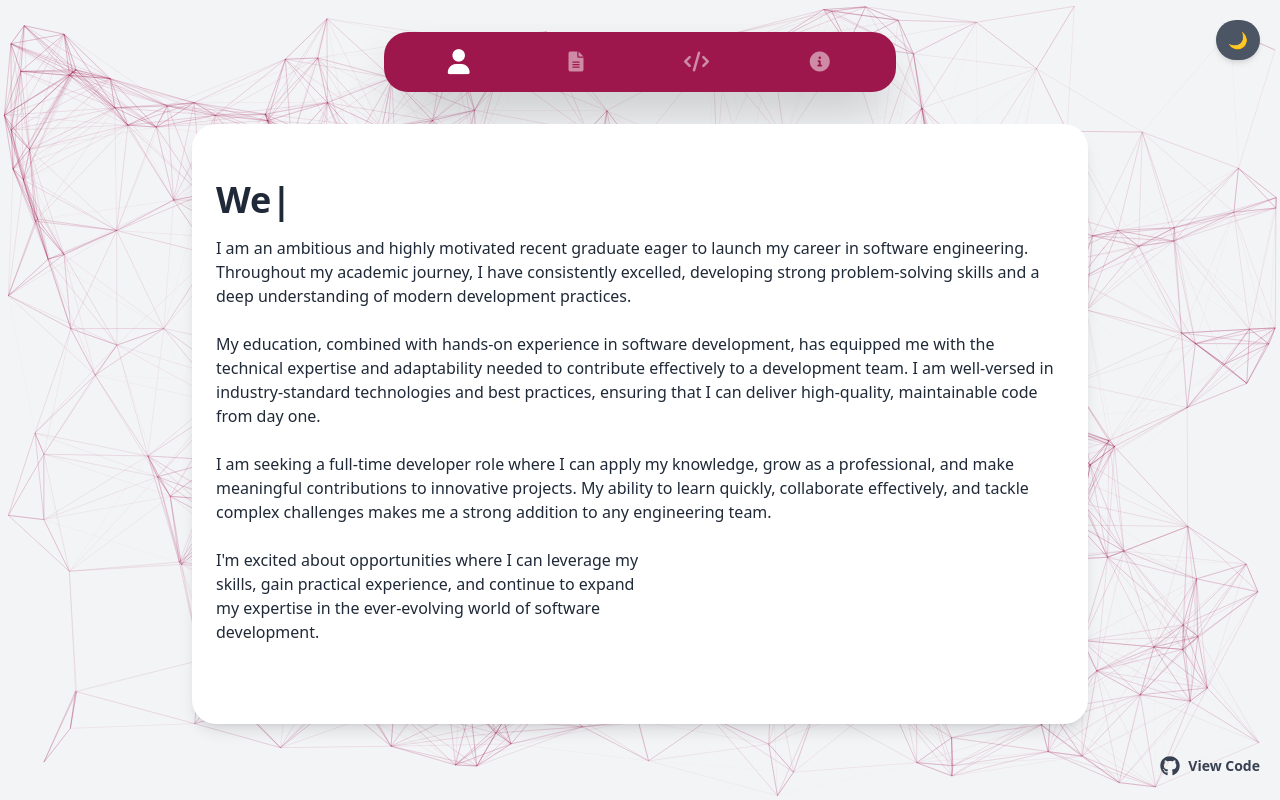
Scenario: Button Tests › should toggle dark mode when clicking the dark mode button
Click the button named "Toggle dark mode". click: (1238, 40)
box: x1=1216 y1=20 x2=1260 y2=60
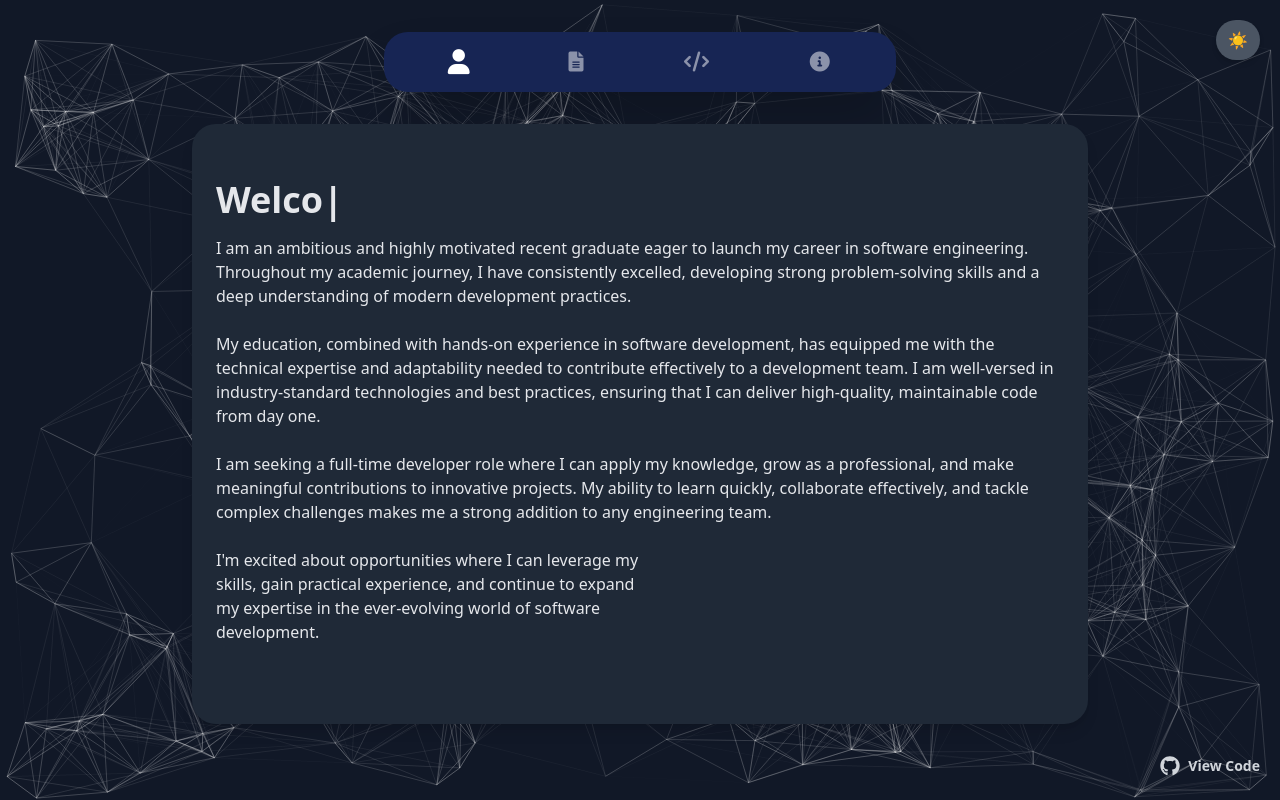
Result: the button named "Toggle dark mode" reads "☀️"
Click the button named "Toggle dark mode". click: (1238, 40)
box: x1=1216 y1=20 x2=1260 y2=60
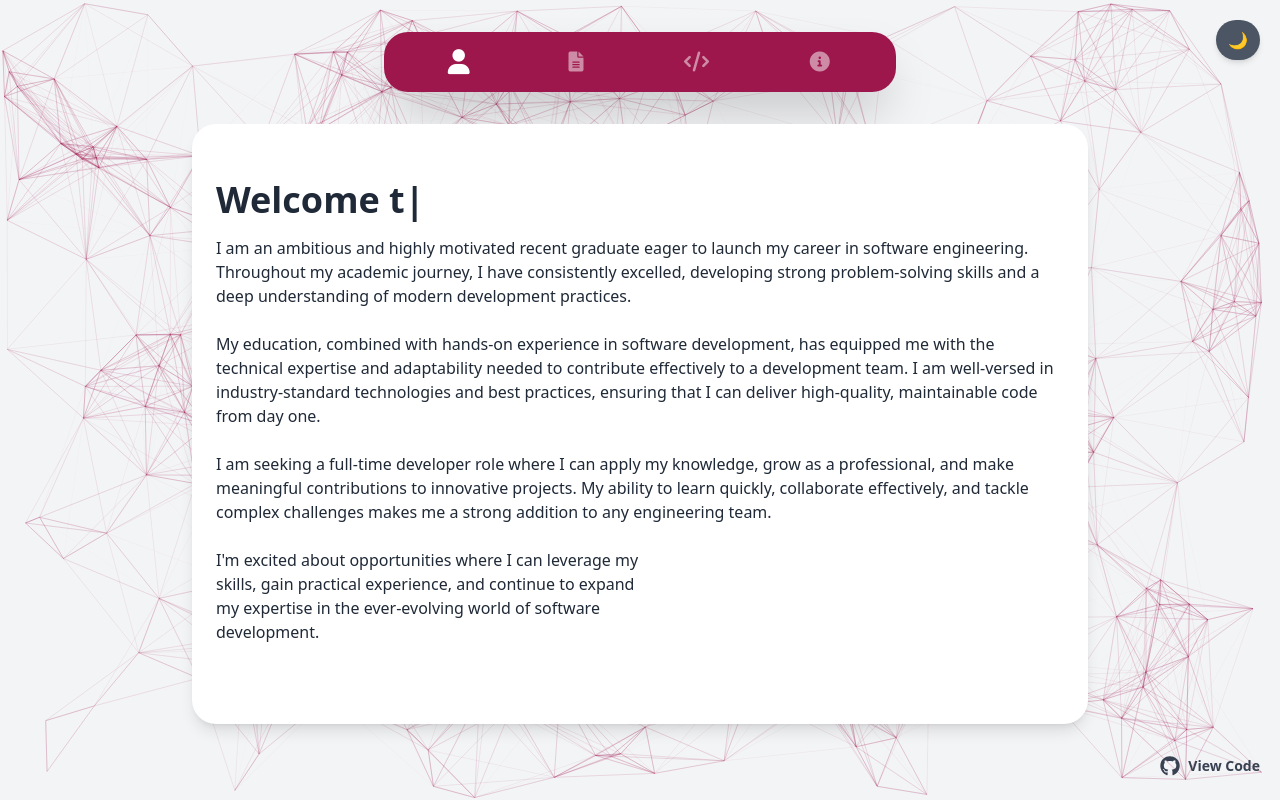
Result: the button named "Toggle dark mode" reads "🌙" at x1=1216 y1=20 x2=1260 y2=60
